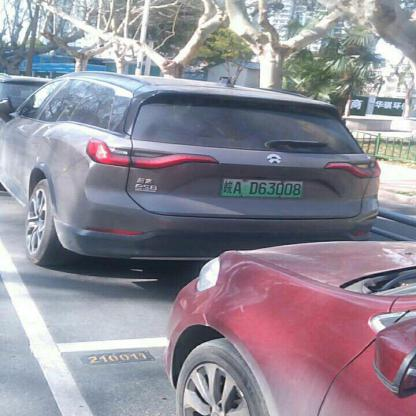lp: (223, 177, 302, 197)
